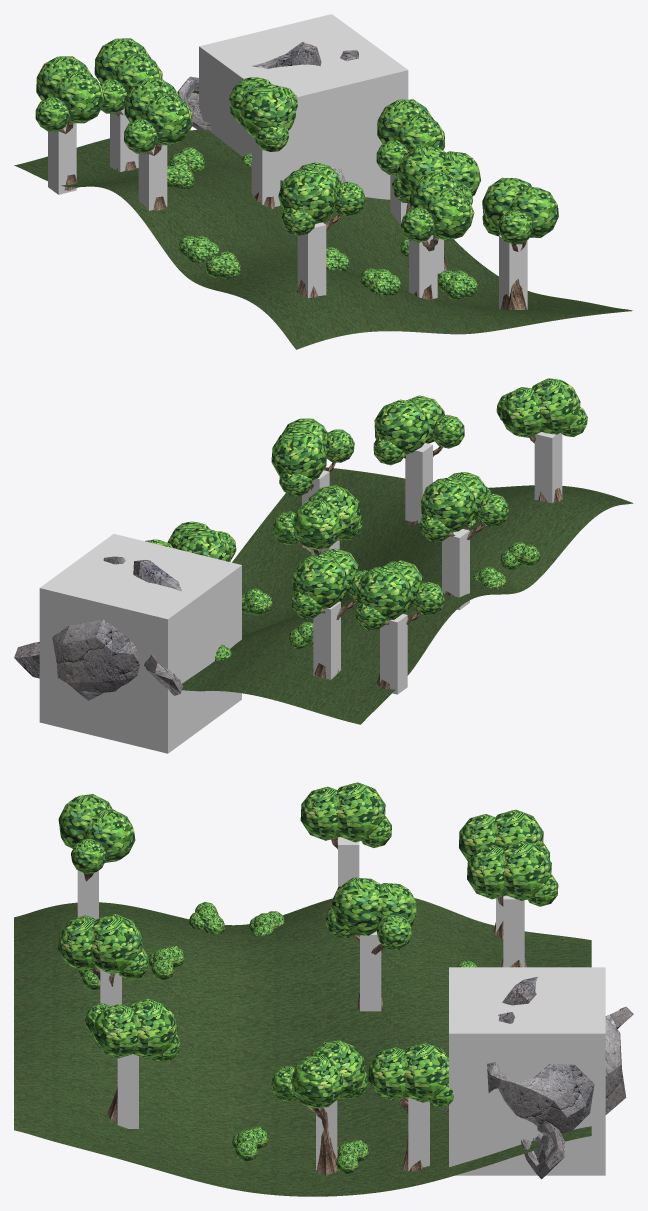
Rendered from UneavenPlane.fbx.
3 renders of one model, top to bottom at view 1: azimuth 30°, elevation 25°; view 2: azimuth 150°, elevation 25°; view 3: azimuth 270°, elevation 25°, orthographic. The views are drawn at different scales.
Visible parts, largest first — view 1: Landscape, Cube, Tree.002, Tree.017, Tree.019, Tree.008, Tree.006, Tree.004, Tree.013, Tree.015, Tree.011, Suzanne (+14 smaller); view 2: Landscape, Cube, Suzanne, Tree.006, Tree.017, Tree.019, Tree.008, Tree.002, Tree.004, Tree.015, Cube.008, Cube.002 (+7 smaller); view 3: Landscape, Cube, Suzanne, Tree.004, Tree.008, Tree.011, Tree.006, Tree.015, Tree.019, Tree.002, Tree.013, Tree.017 (+14 smaller).
Part boxes in pixels (bbox=[...]): Landscape: bbox=[14, 129, 632, 349]; Cube: bbox=[199, 14, 408, 199]; Tree.002: bbox=[278, 162, 365, 235]; Tree.017: bbox=[35, 56, 104, 131]; Tree.019: bbox=[124, 78, 192, 153]; Tree.008: bbox=[482, 177, 558, 244]; Tree.006: bbox=[400, 171, 474, 242]; Tree.004: bbox=[229, 77, 297, 151]; Tree.013: bbox=[376, 99, 444, 174]; Tree.015: bbox=[94, 38, 162, 113]; Tree.011: bbox=[392, 144, 480, 204]; Suzanne: bbox=[177, 42, 358, 182]; Landscape: bbox=[34, 467, 633, 724]; Cube: bbox=[39, 534, 241, 753]; Suzanne: bbox=[14, 556, 183, 700]; Tree.006: bbox=[373, 395, 464, 465]; Tree.017: bbox=[355, 560, 444, 630]; Tree.019: bbox=[419, 472, 508, 542]; Tree.008: bbox=[271, 418, 354, 496]; Tree.002: bbox=[496, 378, 587, 437]; Tree.004: bbox=[272, 485, 362, 550]; Tree.015: bbox=[291, 548, 367, 618]; Cube.008: bbox=[380, 614, 407, 694]; Cube.002: bbox=[534, 432, 562, 503]; Landscape: bbox=[14, 898, 591, 1196]; Cube: bbox=[449, 967, 605, 1175]; Suzanne: bbox=[442, 976, 633, 1179]; Tree.004: bbox=[326, 877, 417, 949]; Tree.008: bbox=[84, 998, 180, 1063]; Tree.011: bbox=[271, 1040, 367, 1108]; Tree.006: bbox=[58, 914, 149, 979]; Tree.015: bbox=[467, 841, 558, 906]; Tree.019: bbox=[300, 782, 391, 847]; Tree.002: bbox=[58, 794, 135, 874]; Tree.013: bbox=[368, 1042, 453, 1108]; Tree.017: bbox=[459, 809, 549, 861].
Size of what is drawn, in the model's own units: 110 by 64.78 by 143.
